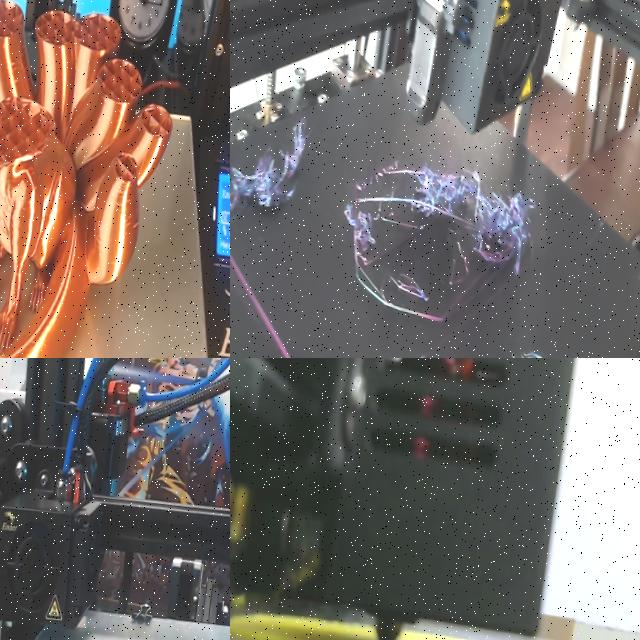spaghetti: (405, 150, 549, 284), (230, 92, 323, 280), (328, 178, 384, 274), (386, 258, 436, 318)
